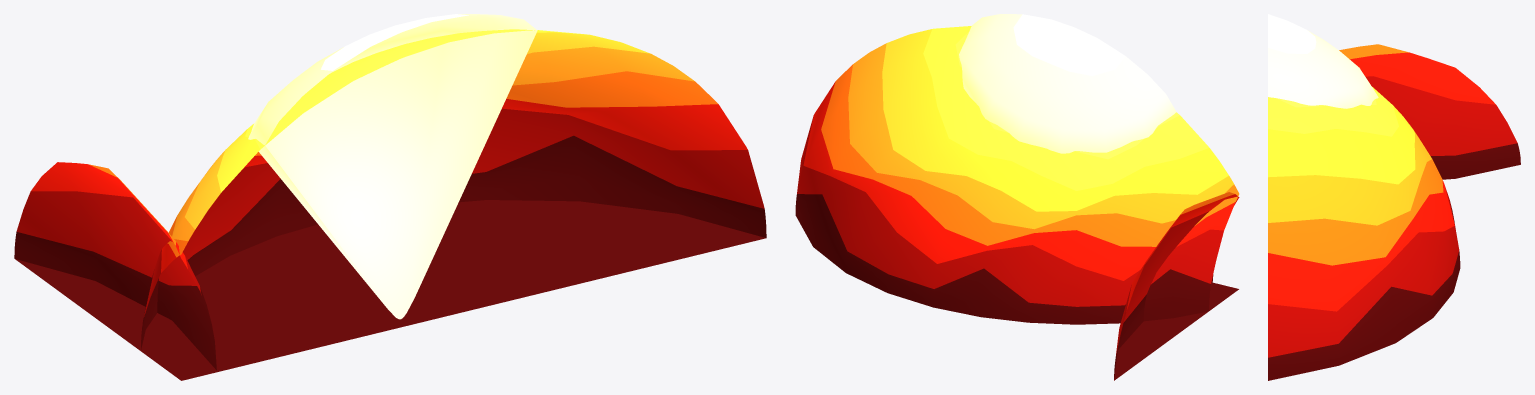
The model's file is shot_charge_b207.glb.
The picture shows the model from 3 angles, left to right: view 1: azimuth 30°, elevation 25°; view 2: azimuth 150°, elevation 25°; view 3: azimuth 270°, elevation 25°; orthographic projection. The views are drawn at different scales.
Visible parts, largest first — view 1: charge_twin5_a_fire_shot_charge_b207, charge_twin5_a_core_shot_charge_b207, charge_twin5_b_fire_shot_charge_b207; view 2: charge_twin5_a_fire_shot_charge_b207, charge_twin5_a_core_shot_charge_b207, charge_twin5_b_fire_shot_charge_b207; view 3: charge_twin5_a_fire_shot_charge_b207, charge_twin5_b_fire_shot_charge_b207, charge_twin5_a_core_shot_charge_b207.
Part boxes in pixels (x1=…): charge_twin5_a_fire_shot_charge_b207: x1=141, y1=29, x2=766, y2=380; charge_twin5_a_core_shot_charge_b207: x1=248, y1=14, x2=537, y2=319; charge_twin5_b_fire_shot_charge_b207: x1=14, y1=162, x2=216, y2=380; charge_twin5_a_fire_shot_charge_b207: x1=795, y1=26, x2=1239, y2=324; charge_twin5_a_core_shot_charge_b207: x1=959, y1=14, x2=1176, y2=153; charge_twin5_b_fire_shot_charge_b207: x1=1114, y1=192, x2=1239, y2=380; charge_twin5_a_fire_shot_charge_b207: x1=1268, y1=87, x2=1460, y2=380; charge_twin5_b_fire_shot_charge_b207: x1=1339, y1=44, x2=1520, y2=179; charge_twin5_a_core_shot_charge_b207: x1=1268, y1=14, x2=1378, y2=108.
Size of the model in its own units: 10.64 by 5.17 by 5.26.
